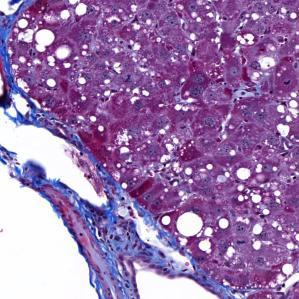fibrosis: (76, 201, 173, 271)
